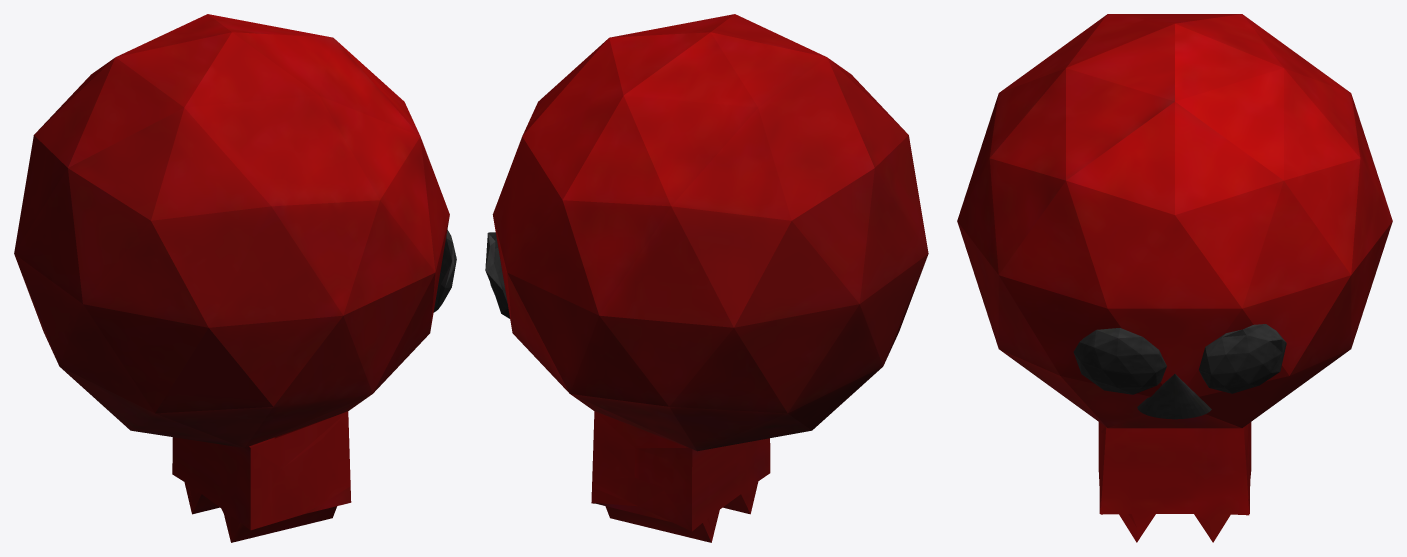
The model's file is redmask.dae.
3 views of the same model, side by side, from view 1: azimuth 30°, elevation 25°; view 2: azimuth 150°, elevation 25°; view 3: azimuth 270°, elevation 25° (orthographic). The views are drawn at different scales.
Visible parts, largest first — view 1: Cube; view 2: Cube; view 3: Cube.
Boxes of the visible parts, x1,y1,x2,y2 form: Cube: (14, 14, 456, 542); Cube: (485, 14, 928, 542); Cube: (957, 14, 1392, 542).
Size of the model in its own units: 0.2095 by 0.2155 by 0.2622.
Materials: 1 (1 with a texture image).
